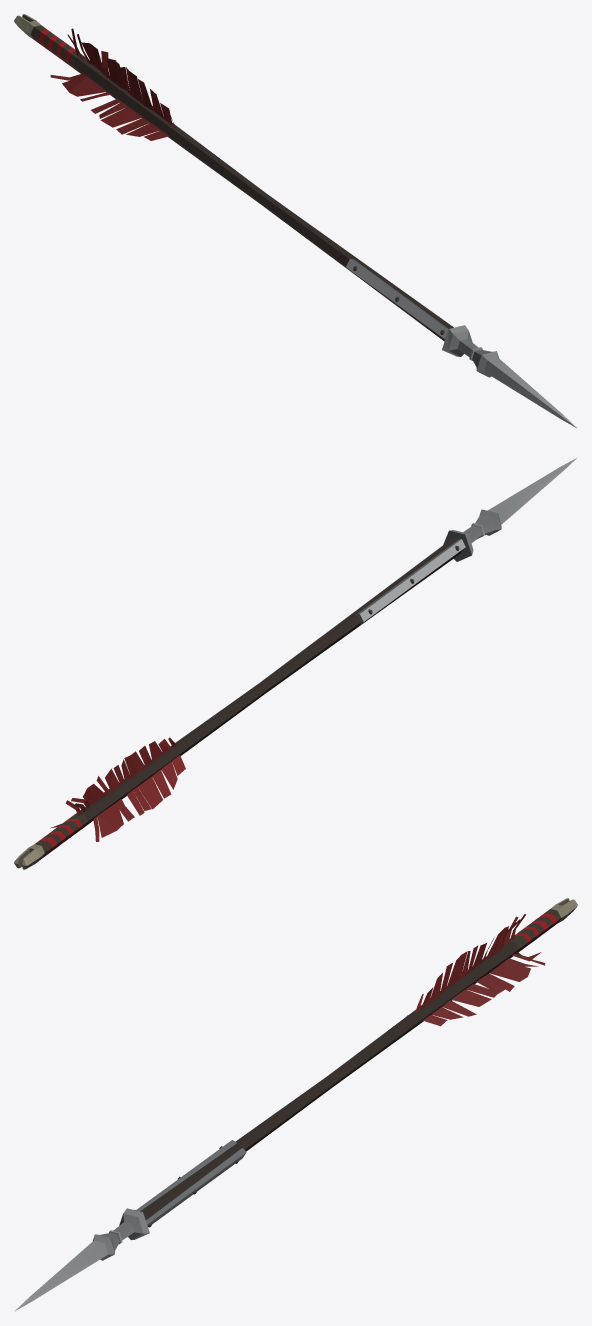
File: guardArrow.glb
The picture shows the model from 3 angles, top to bottom: view 1: azimuth 30°, elevation 25°; view 2: azimuth 150°, elevation 25°; view 3: azimuth 330°, elevation 25°; orthographic projection.
Visible parts, largest first — view 1: guardArrow; view 2: guardArrow; view 3: guardArrow.
Boxes of the visible parts, x1=… form: guardArrow: x1=14, y1=14, x2=577, y2=428; guardArrow: x1=14, y1=458, x2=576, y2=869; guardArrow: x1=14, y1=898, x2=577, y2=1311.
Bounding box in the file's own units: 0.0604 × 0.0545 × 1.1.
